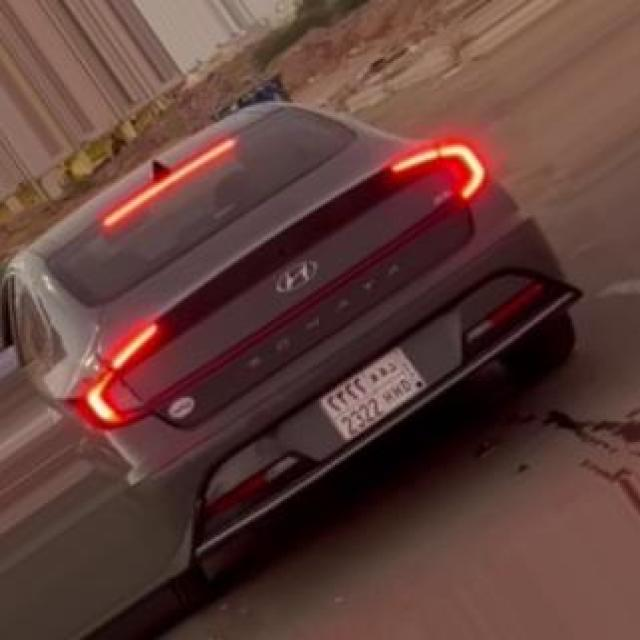Car-plate: (309, 342, 434, 448)
